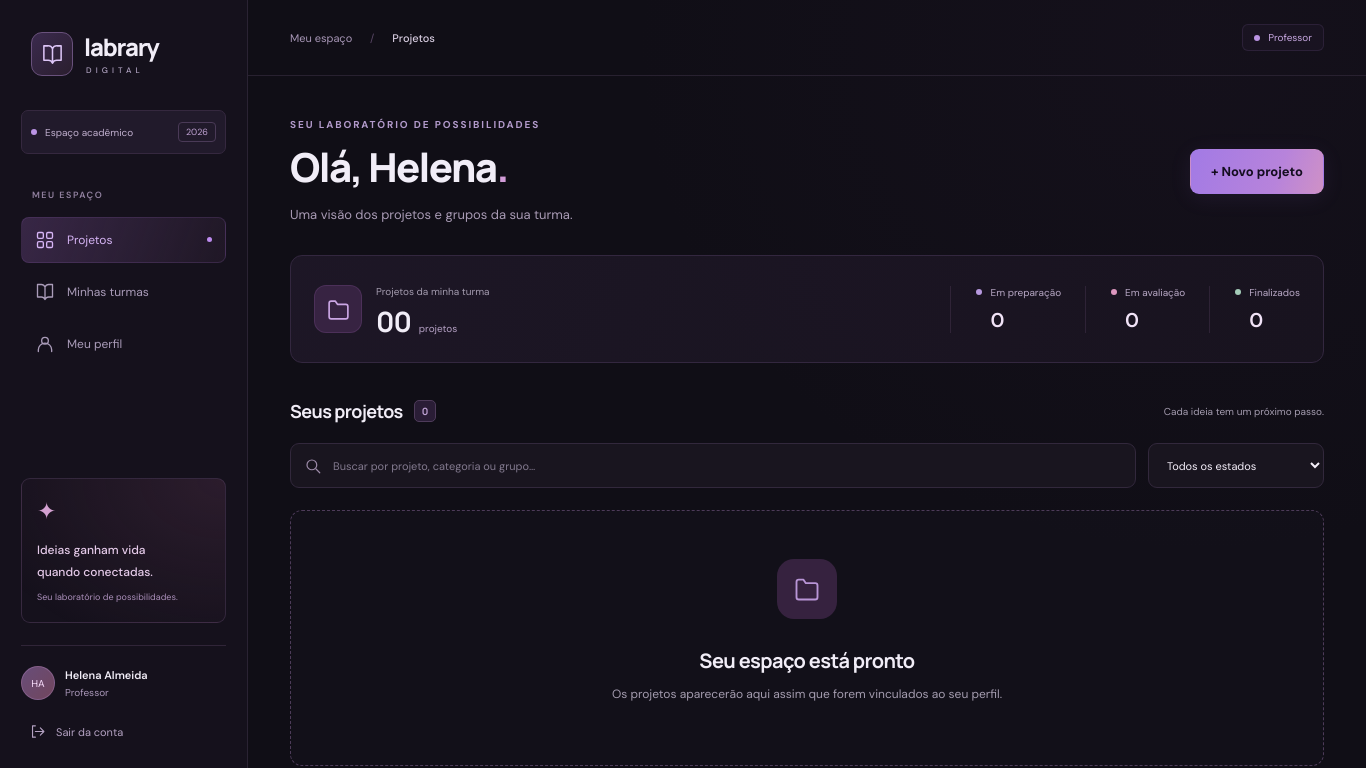
Test: HU01: interface › trata professor sem turmas ou grupos disponíveis
Expected: the heading "Seu espaço está pronto" is shown, top-left (699, 648), bottom-right (915, 674)
What coordinates should you click on to do the following:
click the button "+ Novo projeto"
I would click on:
 (1257, 171)
Its box is top-left (1190, 148), bottom-right (1324, 194).
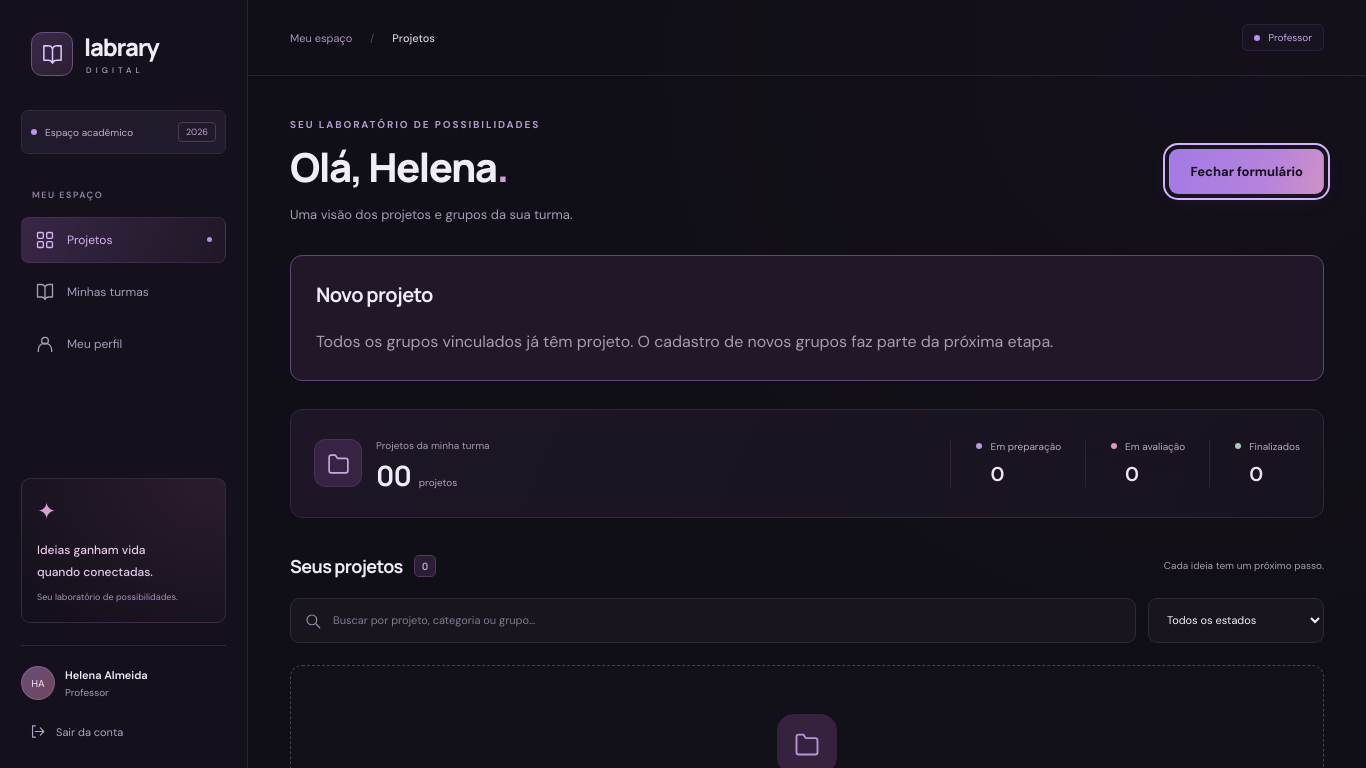
Expected: the text "Todos os grupos vinculados já têm projeto" is shown, top-left (316, 331), bottom-right (1053, 352)
What coordinates should you click on to do the following:
click the button "Fechar formulário"
I would click on:
 (1247, 171)
Its box is top-left (1169, 148), bottom-right (1324, 194).
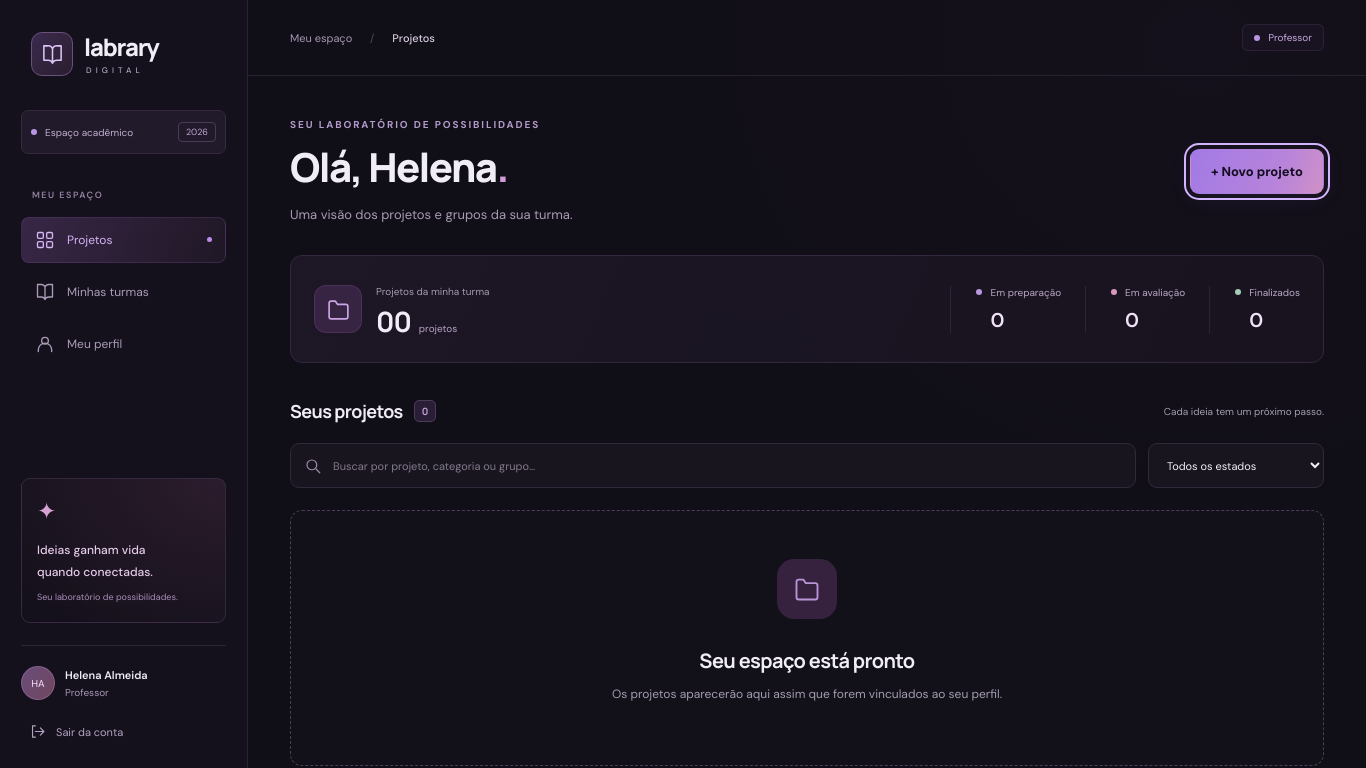
What coordinates should you click on to do the following:
click the button "Minhas turmas"
I would click on:
 (124, 292)
Its box is top-left (21, 269), bottom-right (226, 315).
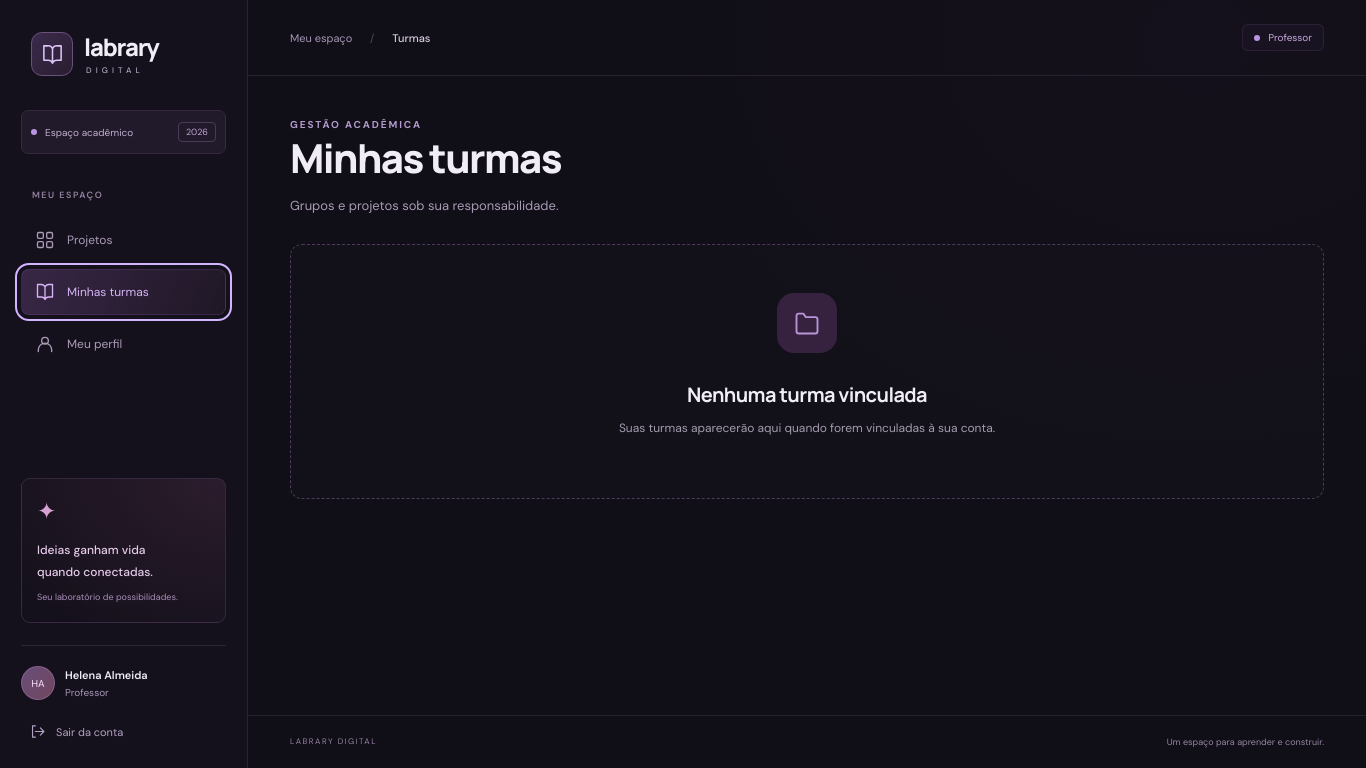
Expected: the heading "Nenhuma turma vinculada" is shown, top-left (687, 381), bottom-right (927, 408)
What coordinates should you click on to do the following:
click the button "Projetos"
I would click on:
 (124, 240)
Its box is top-left (21, 217), bottom-right (226, 263).
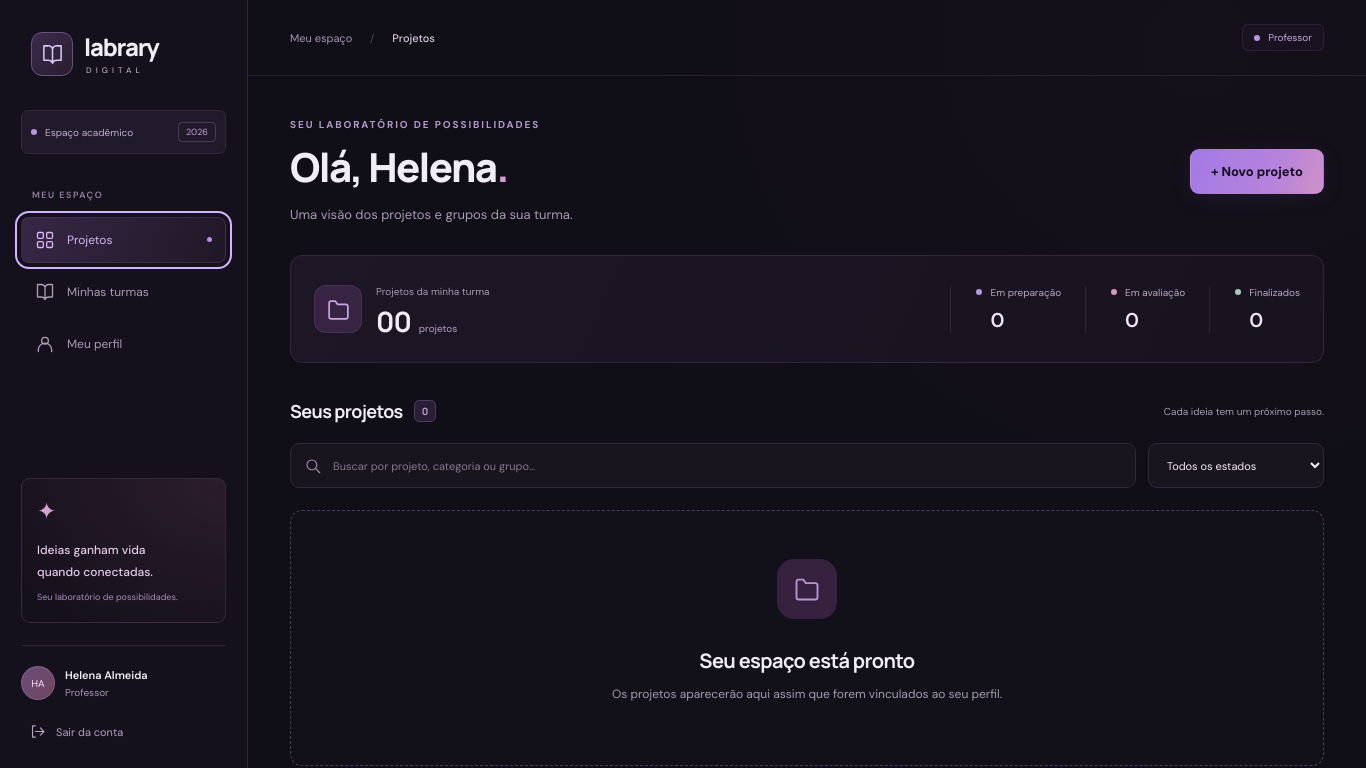
Expected: the heading "Seu espaço está pronto" is shown, top-left (699, 648), bottom-right (915, 674)
